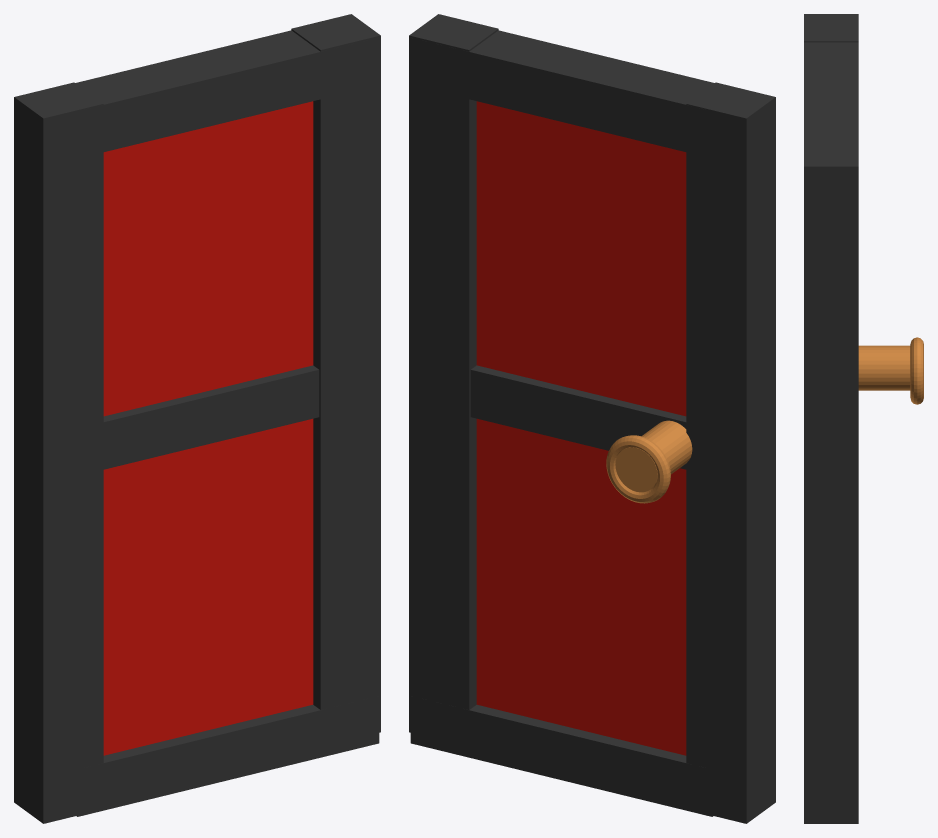
Rendered from Office-Door.fbx.
3 views of the same model, side by side, from view 1: azimuth 30°, elevation 25°; view 2: azimuth 150°, elevation 25°; view 3: azimuth 270°, elevation 25° (orthographic). The views are drawn at different scales.
Parts seen in each view (by area): view 1: Cube, Cube.003, Cube.004, Cube.002, Cube.001, Cube.005; view 2: Cube, Cube.003, Cube.004, Cube.002, Cube.001, Cube.005, Cylinder, Torus; view 3: Cube.004, Cube.002, Cylinder, Cube.003, Torus, Cube.001.
Boxes of the visible parts, x1,y1,x2,y2 form: Cube: (103,101,313,755); Cube.003: (14,82,103,823); Cube.004: (291,14,380,732); Cube.002: (75,30,379,158); Cube.001: (76,696,379,816); Cube.005: (103,365,319,469); Cube: (476,101,686,755); Cube.003: (686,82,775,823); Cube.004: (409,14,498,732); Cube.002: (410,30,714,158); Cube.001: (410,696,713,816); Cube.005: (470,365,686,469); Cylinder: (615,420,692,492); Torus: (606,435,670,503); Cube.004: (804,139,858,814); Cube.002: (804,42,858,139); Cylinder: (858,345,910,390); Cube.003: (804,14,858,42); Torus: (910,337,923,404); Cube.001: (804,814,858,823).
Size of the model in its own units: 2.24 by 4.48 by 0.7398.
